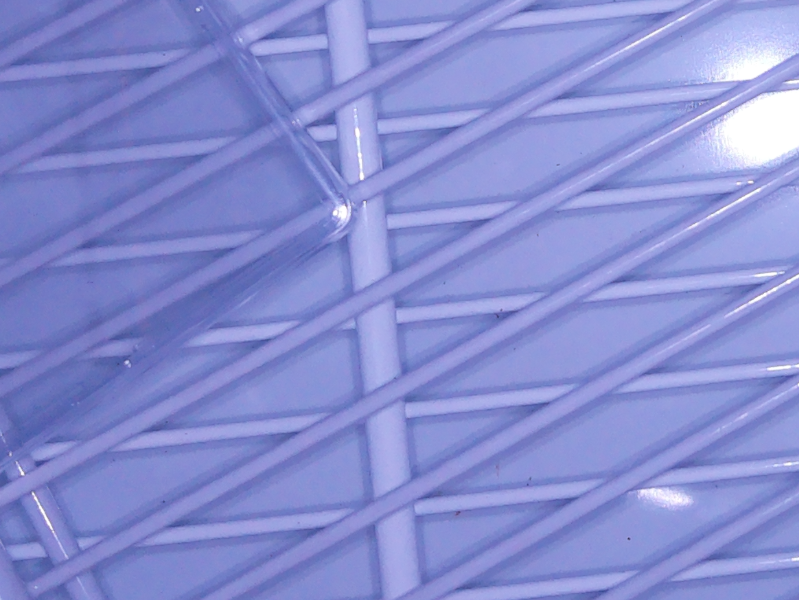plate: (1, 1, 355, 461)
